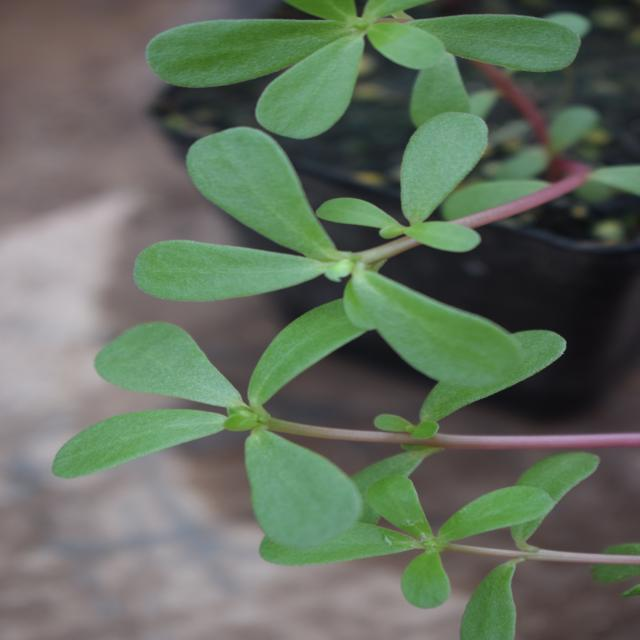purslane: (34, 54, 638, 564)
